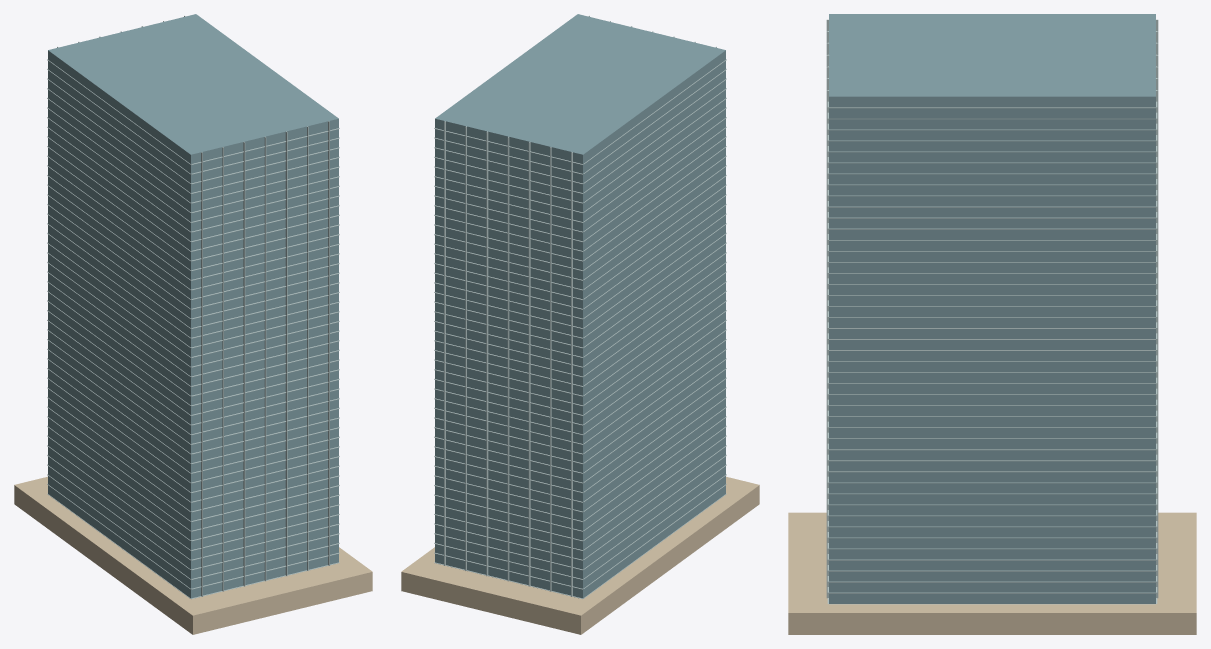
The model's file is westin-bund.glb.
The picture shows the model from 3 angles, left to right: view 1: azimuth 30°, elevation 25°; view 2: azimuth 150°, elevation 25°; view 3: azimuth 270°, elevation 25°; orthographic projection. The views are drawn at different scales.
Parts seen in each view (by area): view 1: westin-bund; view 2: westin-bund; view 3: westin-bund.
Part boxes in pixels (x1=…): westin-bund: x1=14, y1=14, x2=372, y2=634; westin-bund: x1=401, y1=14, x2=759, y2=634; westin-bund: x1=788, y1=14, x2=1196, y2=634.
Bounding box in the file's own units: 48.38 × 119 × 83.2.
